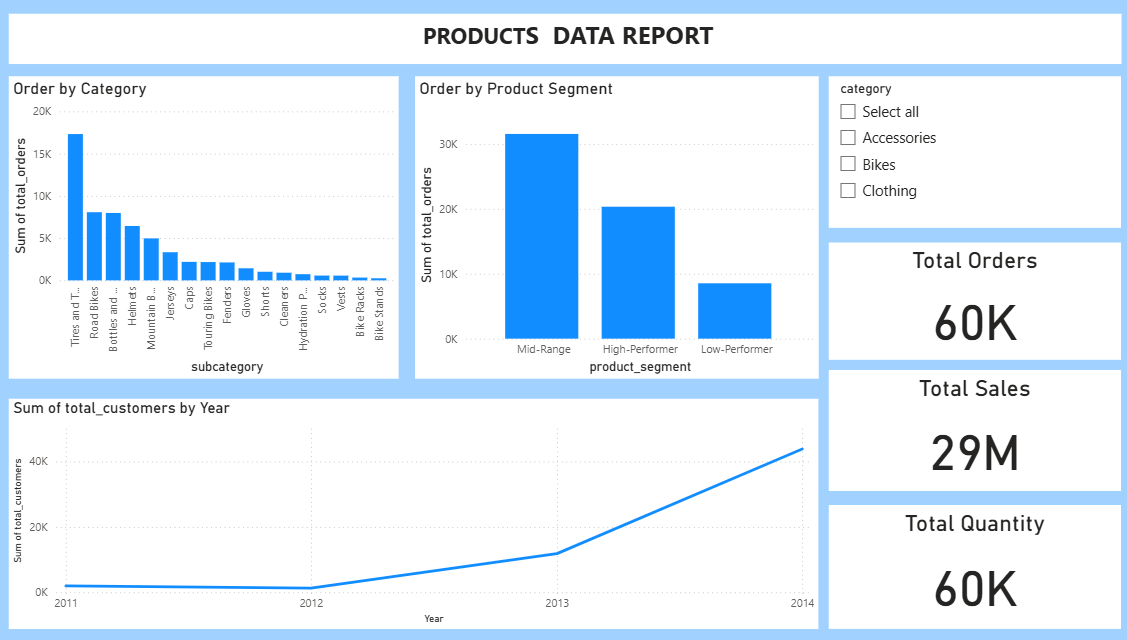

What the dashboard file says about the page in this screenshot:
{"tool":"powerbi","page":{"name":"page 2","canvas":[1280,720],"ordinal":1},"visuals":[{"type":"card","title":"Total Orders","fields":{"Values":["Sum(gold report_products.total_orders)"]},"box":[937.2,282.7,321.1,129],"z":0},{"type":"card","title":"Total Quantity","fields":{"Values":["Sum(gold report_products.total_quantity)"]},"box":[937.2,570.8,321.1,135.8],"z":1000},{"type":"card","title":"Total Sales","fields":{"Values":["Sum(gold report_products.total_sales)"]},"box":[937.2,422.6,321.1,133.1],"z":2000},{"type":"clusteredColumnChart","title":"Order by Category","fields":{"Category":["gold report_products.subcategory"],"Y":["Sum(gold report_products.total_orders)"]},"box":[37,100.2,428.1,332.1],"z":3000},{"type":"clusteredColumnChart","title":"Order by Product Segment","fields":{"Category":["gold report_products.product_segment"],"Y":["Sum(gold report_products.total_orders)"]},"box":[483,100.2,443.2,332.1],"z":4000},{"type":"lineChart","fields":{"Category":["gold report_products.last_sale_date.Variation.Date Hierarchy.Year"],"Y":["Sum(gold report_products.total_customers)"]},"box":[37,454.2,889.2,252.5],"z":5000},{"type":"slicer","fields":{"Values":["gold report_products.category"]},"box":[937.2,100.2,321.1,166],"z":6000},{"type":"textbox","box":[37,31.6,1221.3,54.9],"z":7000}]}

Visuals, with their boxes in screenshot pixels (x1, y1, x2, y2), scaled from the page's 1280x720 canvas onto the 1127x640 screenshot:
"Total Orders" card: l=825, t=251, r=1108, b=366
"Total Quantity" card: l=825, t=507, r=1108, b=628
"Total Sales" card: l=825, t=376, r=1108, b=494
"Order by Category" clusteredColumnChart: l=33, t=89, r=410, b=384
"Order by Product Segment" clusteredColumnChart: l=425, t=89, r=815, b=384
lineChart - gold report_products.last_sale_date.Variation.Date Hierarchy.Year x Sum(gold report_products.total_customers): l=33, t=404, r=815, b=628
slicer - gold report_products.category: l=825, t=89, r=1108, b=237
textbox: l=33, t=28, r=1108, b=77
